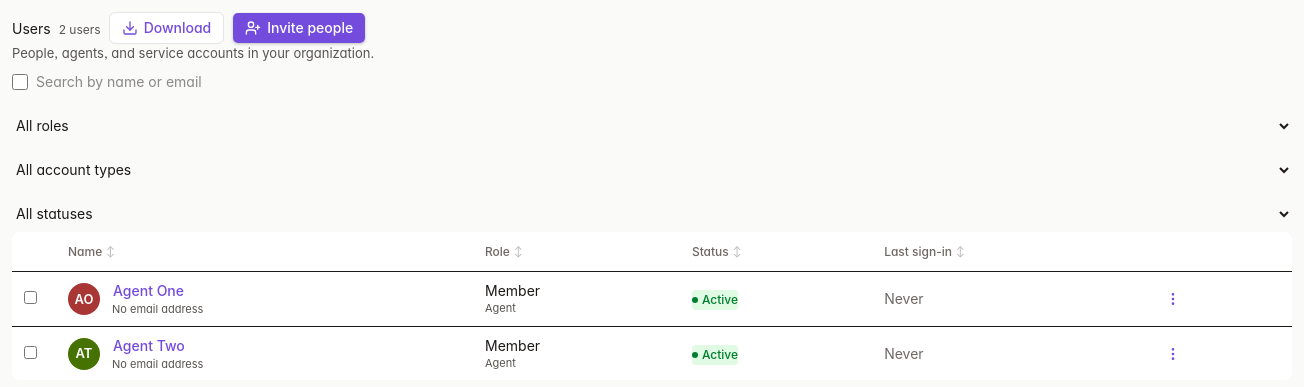
Test: AdminUsers › keeps selection distinct for actors that share a missing email
The width and height of the screenshot is (1304, 387).
Click the checkbox named "Select Agent One".
click(30, 297)  # box [24,291,37,304]
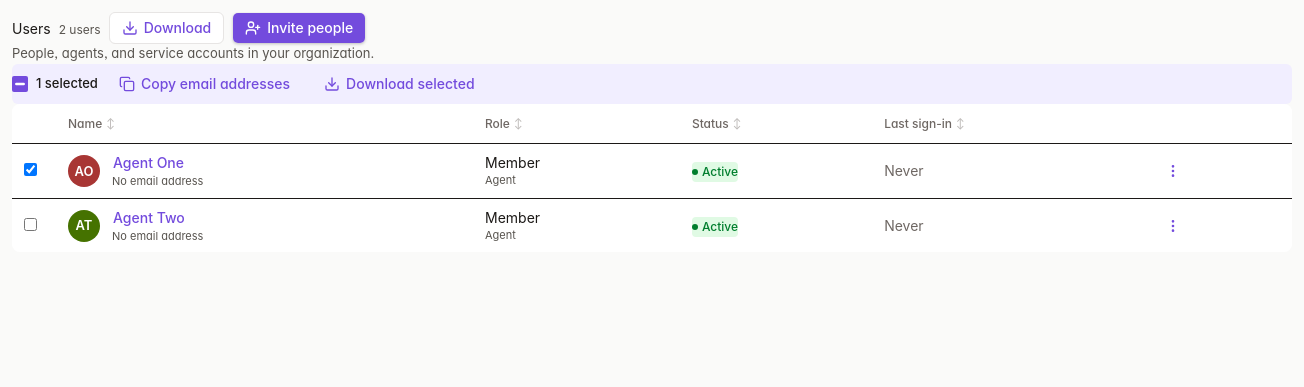
Expected: the checkbox named "Select Agent Two" is not checked, [24,218,37,230]
Now the checkbox named "Select Agent One" is checked, box [24,163,37,176]
Now the text "1 selected" is shown, box [36,74,98,93]
